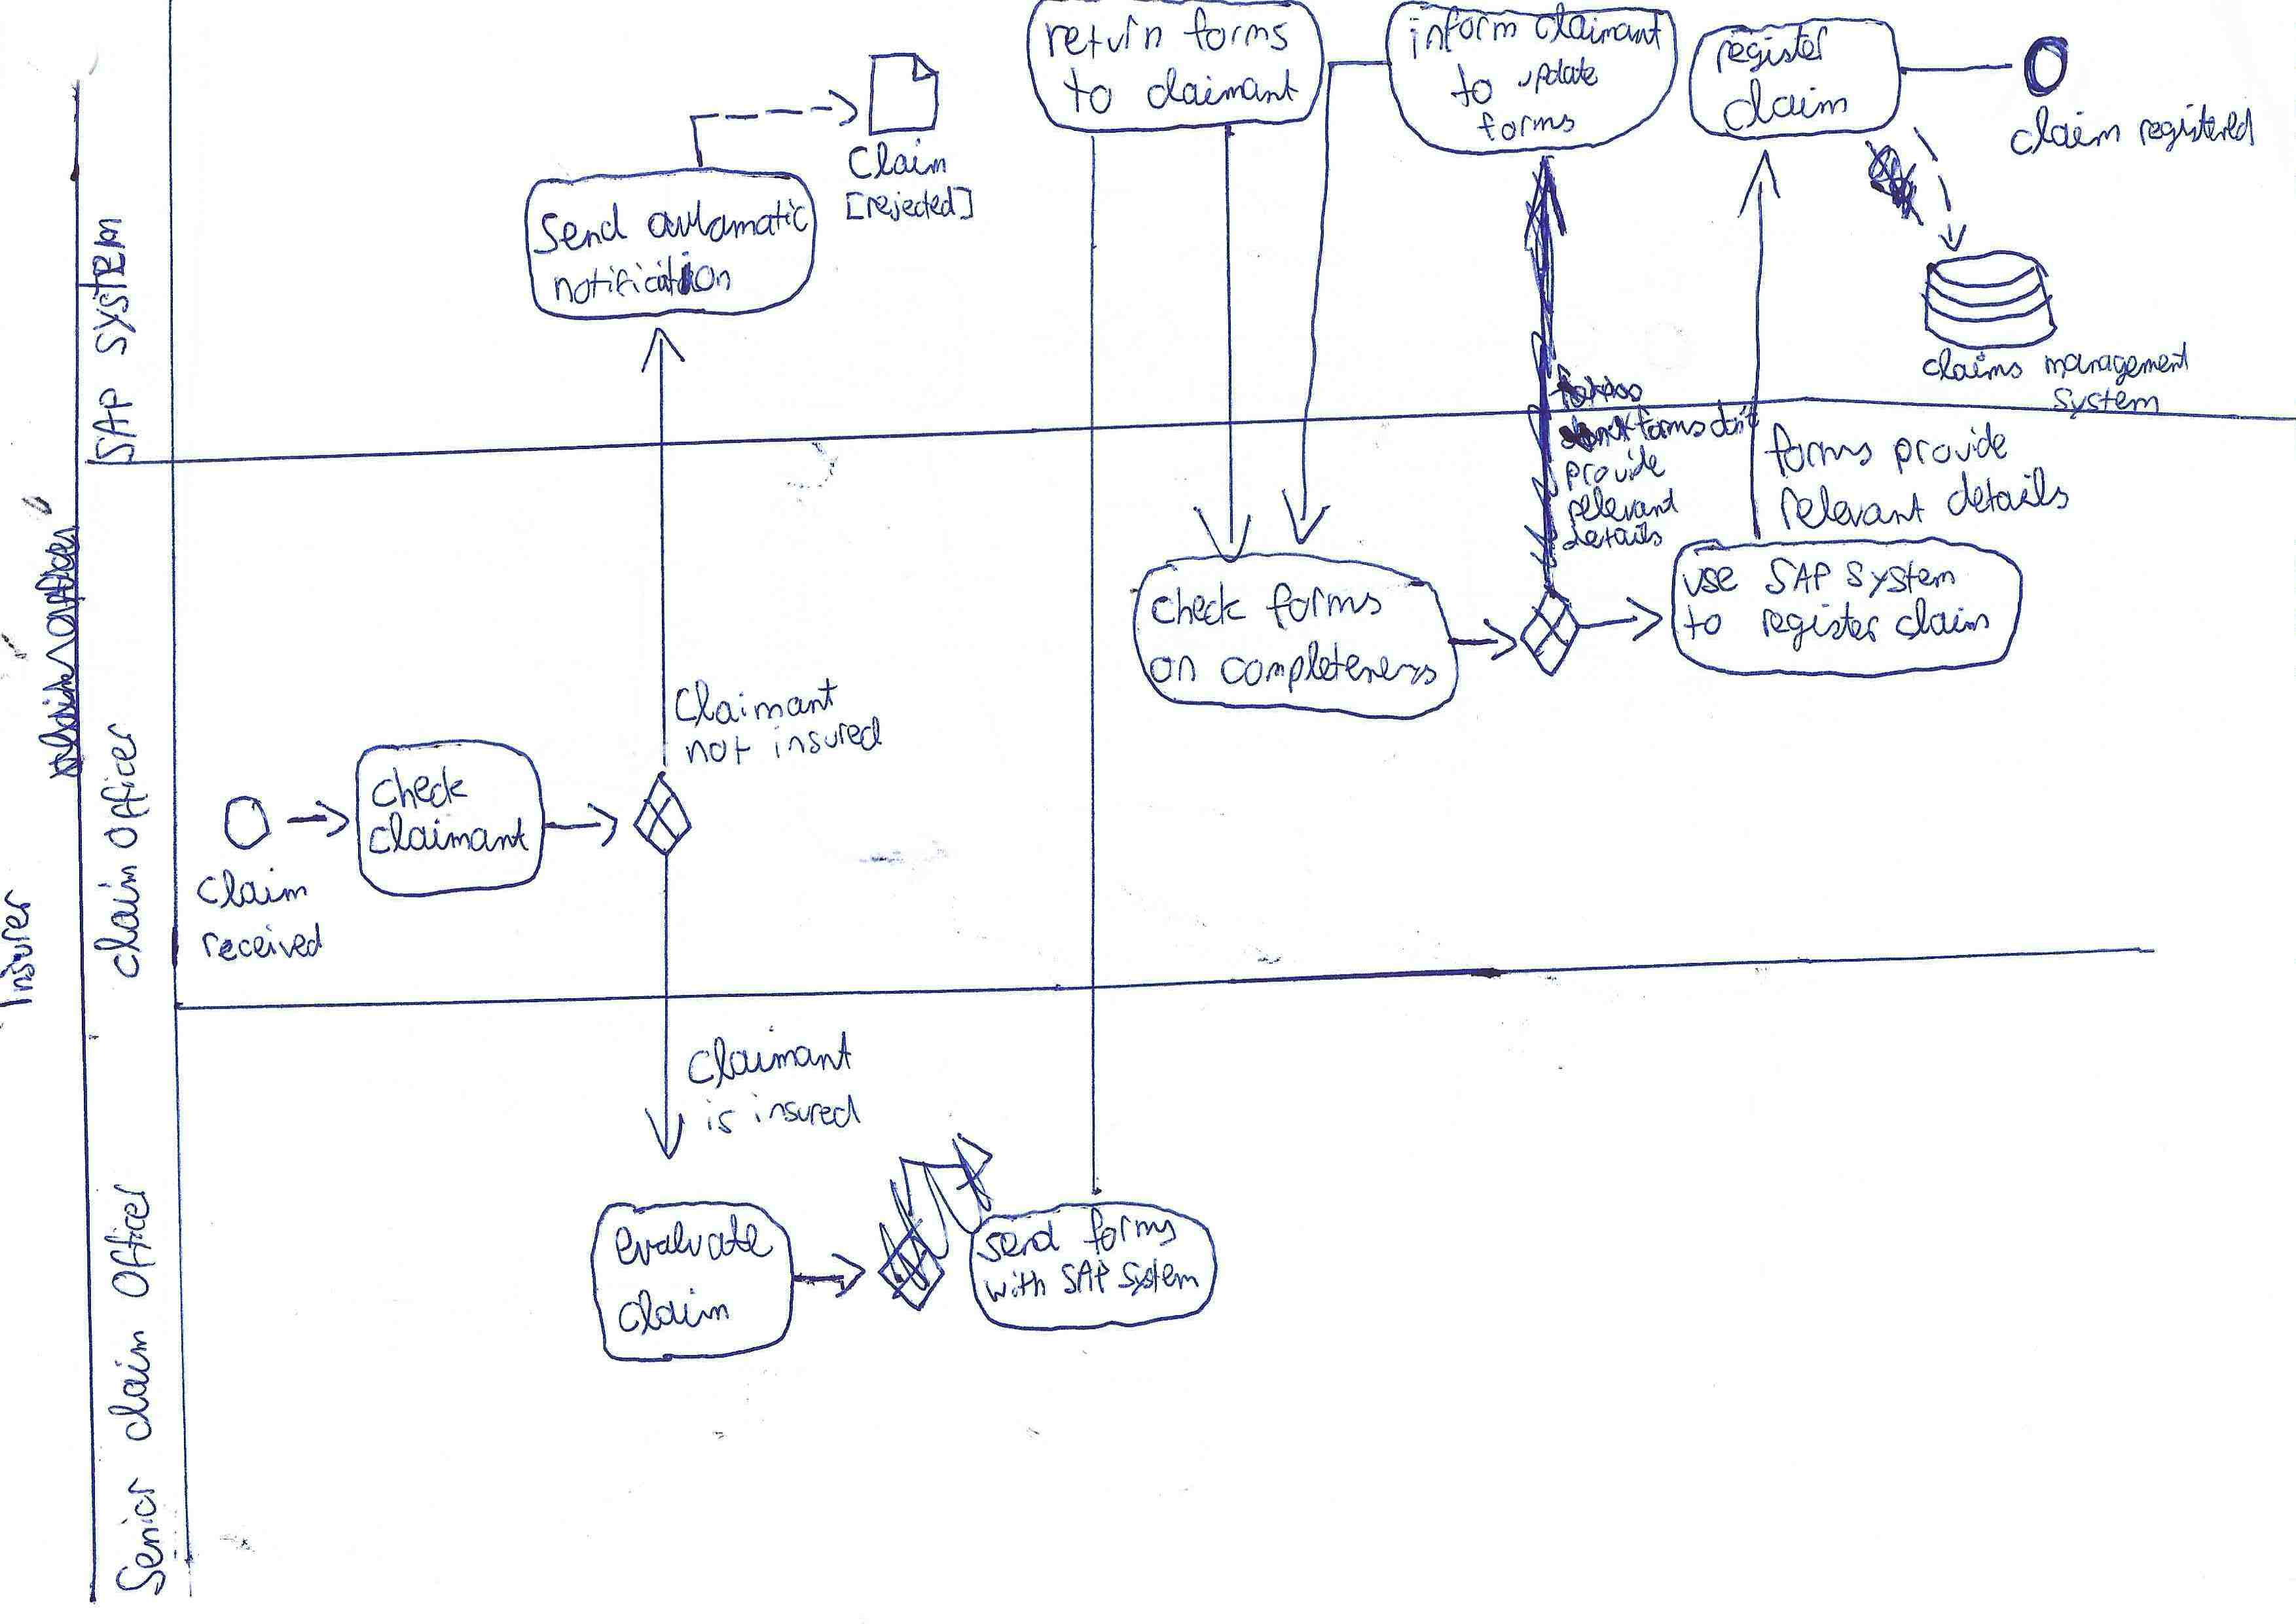Claim: (617, 1288, 730, 1339), (849, 142, 953, 183)
Claimant: (668, 671, 839, 724), (1535, 11, 1663, 47)
Insurer: (0, 888, 37, 1016)
Officer: (97, 722, 149, 852), (102, 1185, 158, 1297)
SAP: (83, 385, 139, 468), (1762, 555, 1832, 598), (1058, 1260, 1111, 1302)
Send: (533, 204, 628, 251)
Senior: (111, 1480, 163, 1598)
System: (81, 218, 134, 362), (1842, 555, 1960, 598), (2052, 385, 2161, 418), (1116, 1260, 1199, 1301)
[rejected]: (839, 185, 976, 227)
automatic: (643, 192, 810, 241)
check: (1150, 582, 1253, 633), (373, 766, 469, 812)
claim: (1726, 77, 1853, 125), (93, 861, 142, 982), (2009, 107, 2118, 155), (107, 1329, 151, 1441), (197, 870, 313, 910), (1897, 599, 1990, 640)
claimant: (682, 1019, 856, 1084), (364, 814, 531, 859), (1148, 63, 1297, 111)
claims: (1922, 352, 2024, 385)
completeness: (1222, 647, 1440, 694)
details: (1948, 464, 2071, 515), (1563, 520, 1665, 552)
don't: (1705, 402, 1760, 443)
evaluate: (614, 1216, 772, 1272)
forms: (1262, 582, 1384, 629), (1770, 424, 1876, 473), (1187, 9, 1296, 53), (1085, 1209, 1176, 1253), (1477, 105, 1575, 139), (1635, 406, 1707, 446)
inform: (1408, 11, 1521, 58)
insured: (767, 715, 884, 758), (749, 1091, 861, 1128)
is: (705, 1095, 740, 1135)
management: (2046, 343, 2189, 381)
not: (680, 729, 752, 772)
notification: (552, 253, 733, 308)
on: (1150, 650, 1197, 684)
provide: (1886, 418, 2013, 468), (1563, 446, 1665, 487)
received: (200, 923, 323, 960)
register: (1751, 601, 1883, 645), (1711, 26, 1827, 70)
registered: (2138, 98, 2261, 146)
relevant: (1781, 485, 1923, 531), (1563, 487, 1684, 527)
return: (1043, 14, 1164, 60)
send: (977, 1220, 1057, 1260)
to: (1064, 69, 1113, 116), (1447, 62, 1496, 107), (1679, 606, 1726, 640)
update: (1510, 53, 1607, 93)
use: (1677, 561, 1744, 599)
with: (985, 1262, 1050, 1304)
